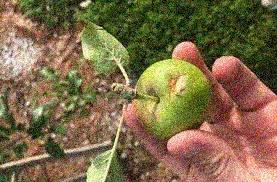rotten apple: (129, 55, 213, 139)
